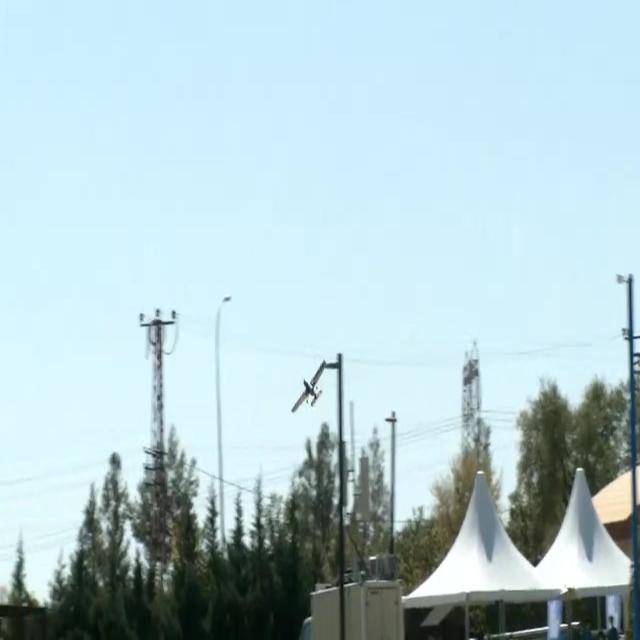iha: (290, 358, 326, 413)
